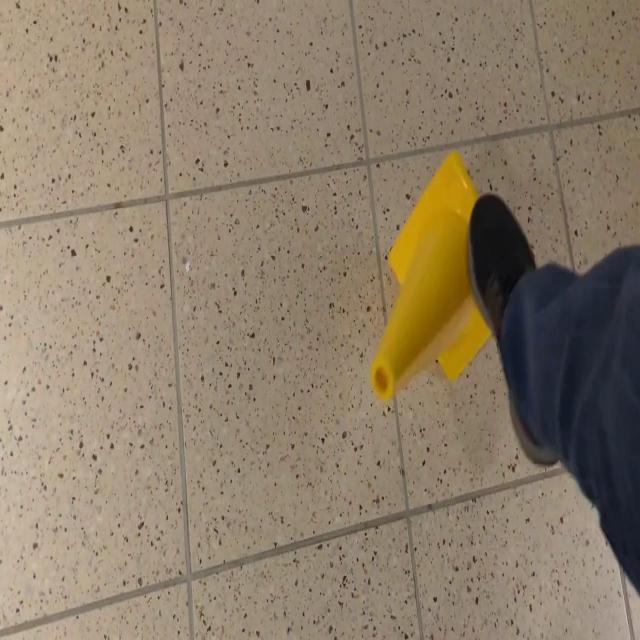frc_cone: (367, 146, 495, 404)
